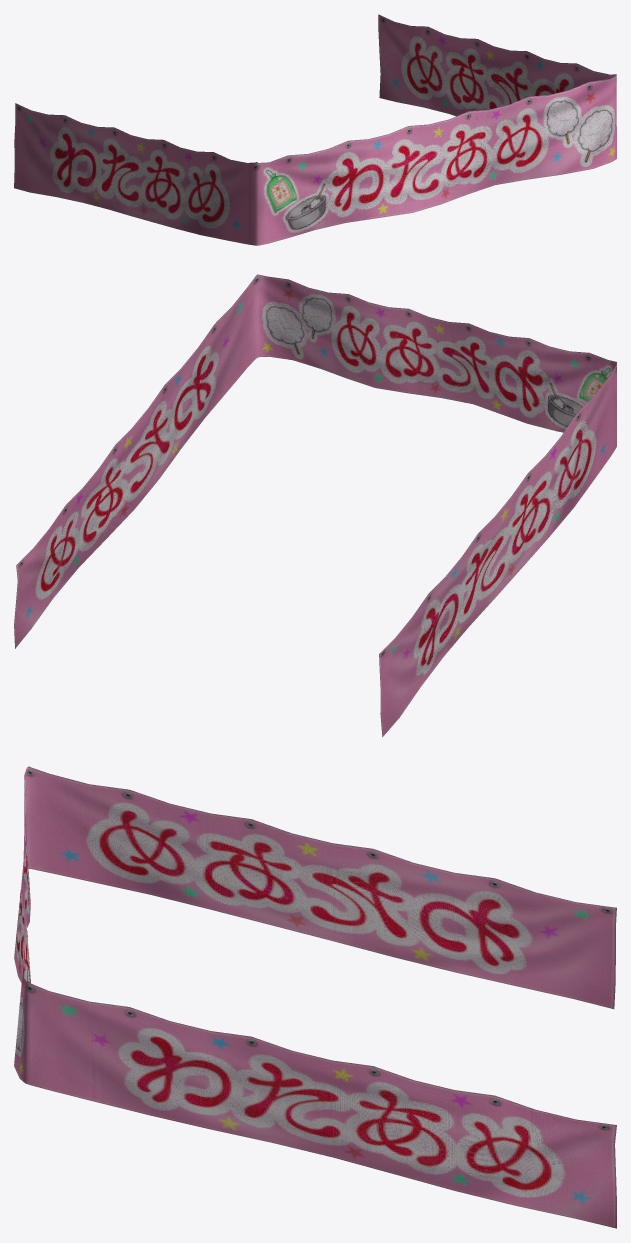
File: jsf_ShopCurtain_CottonCandy_02.fbx
The picture shows the model from 3 angles, top to bottom: view 1: azimuth 30°, elevation 25°; view 2: azimuth 150°, elevation 25°; view 3: azimuth 270°, elevation 25°; orthographic projection. The views are drawn at different scales.
Parts seen in each view (by area): view 1: jsf_ShopCurtain_CottonCandy_02; view 2: jsf_ShopCurtain_CottonCandy_02; view 3: jsf_ShopCurtain_CottonCandy_02.
Part boxes in pixels (x1,y1,x2,y2): jsf_ShopCurtain_CottonCandy_02: (14, 14, 616, 245); jsf_ShopCurtain_CottonCandy_02: (14, 274, 616, 737); jsf_ShopCurtain_CottonCandy_02: (14, 766, 616, 1228).
Size of the model in its own units: 188 by 96.96 by 215.
